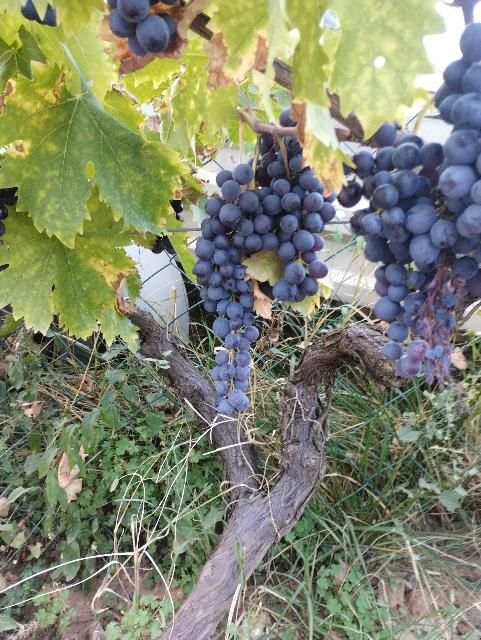grapes: (338, 122, 480, 384), (192, 165, 301, 415), (258, 132, 338, 302)
